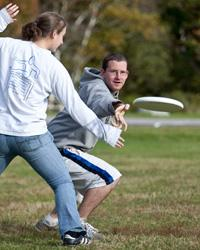person: (34, 51, 130, 238)
